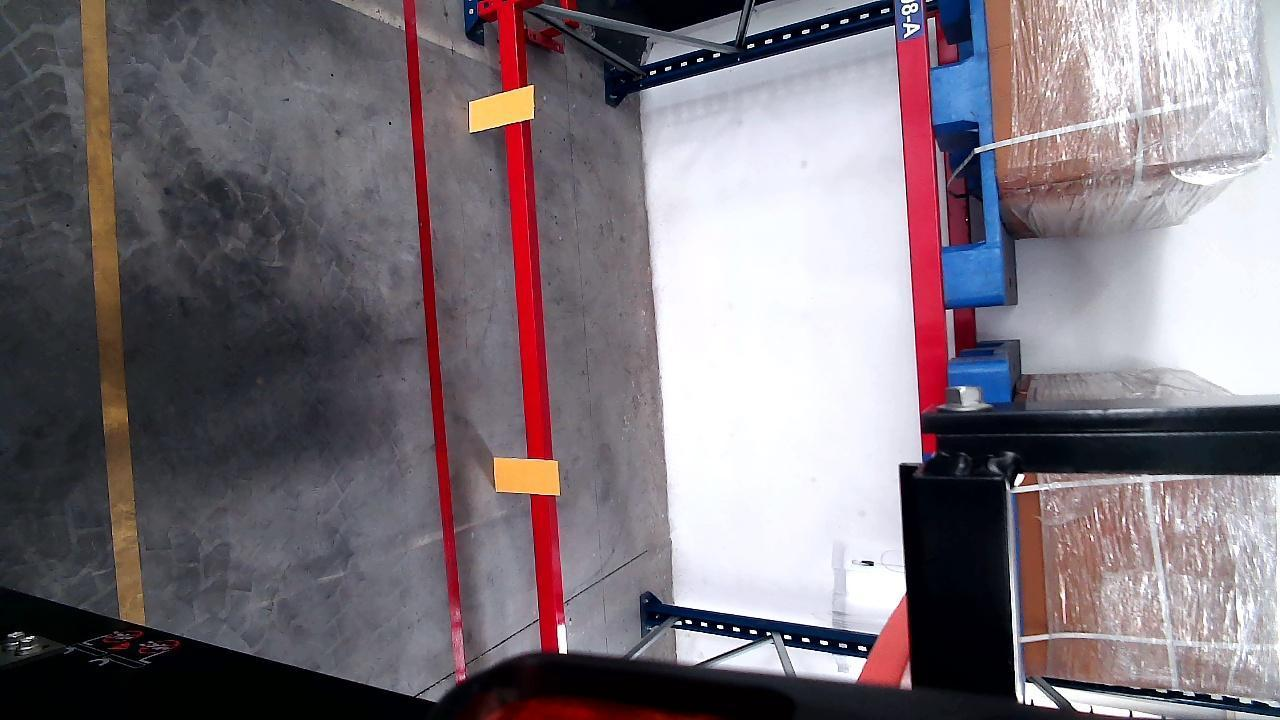h_rack: (498, 4, 565, 667)
orange_strip: (467, 85, 535, 132), (494, 457, 558, 495)
small_pallet: (927, 0, 1014, 302)
yellow_line: (77, 0, 148, 630)
